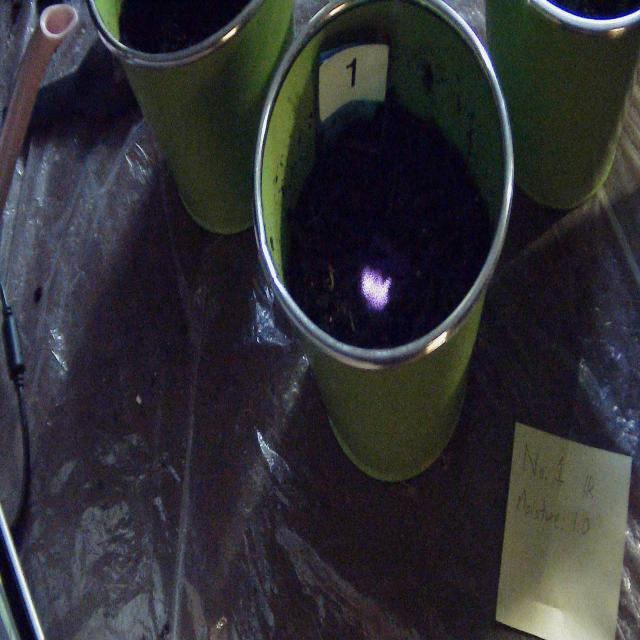soil-moisture-1.0: (360, 264, 391, 310)
